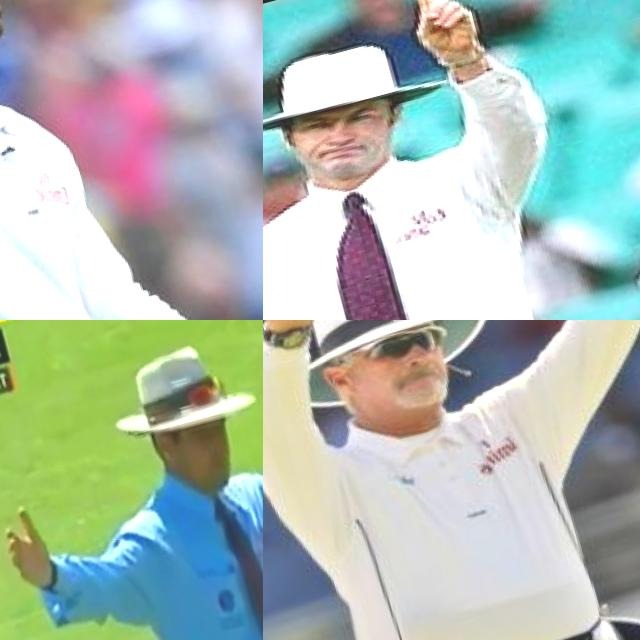No_Action: (0, 0, 263, 320)
Out: (263, 0, 640, 320)
Six: (263, 320, 640, 640)
Wide: (0, 320, 263, 640)
